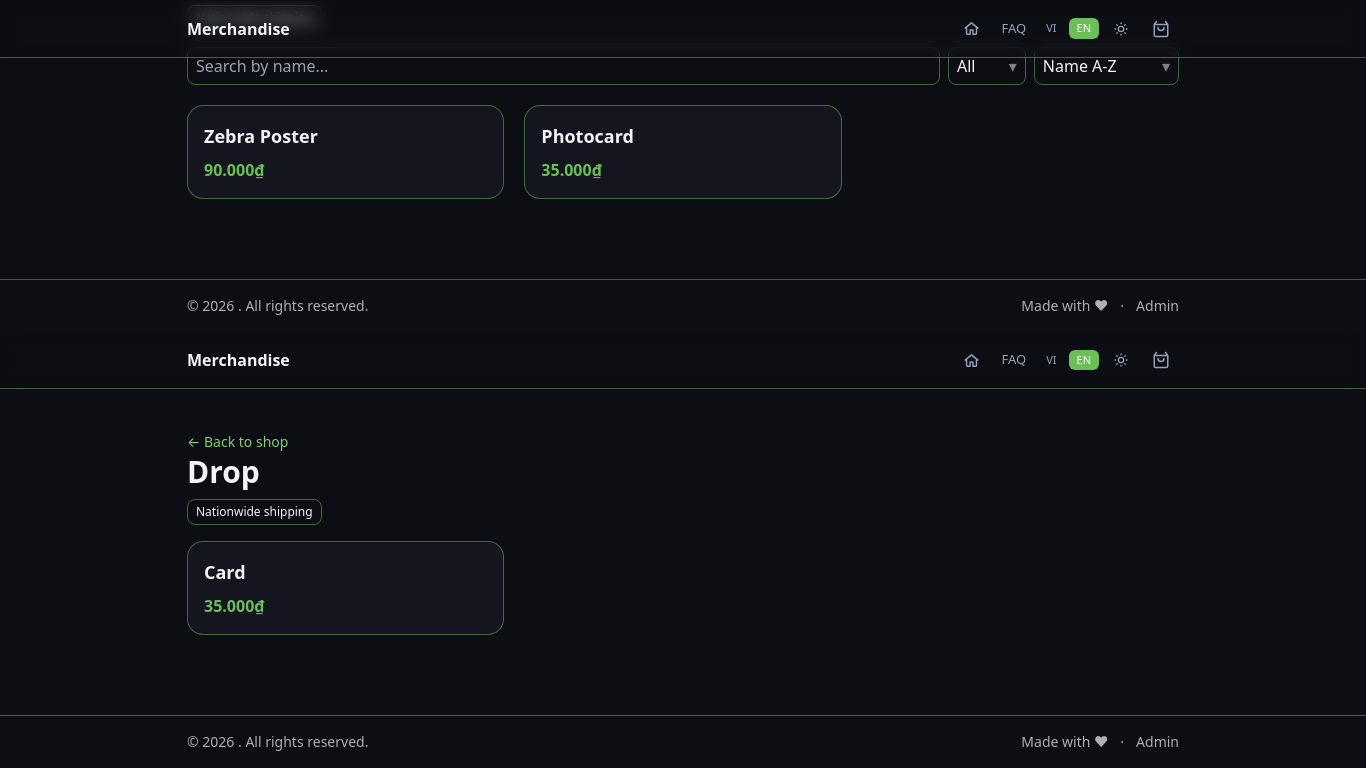
Test: Collection - add-to-cart toast › shows a toast linking to /cart after adding an item
(page scrolled)
// Single-variant product: clicking the card opens its detail directly (no pill list, no gallery).
Click the button "Card 35.000₫": (225, 572) [204,560,265,616]
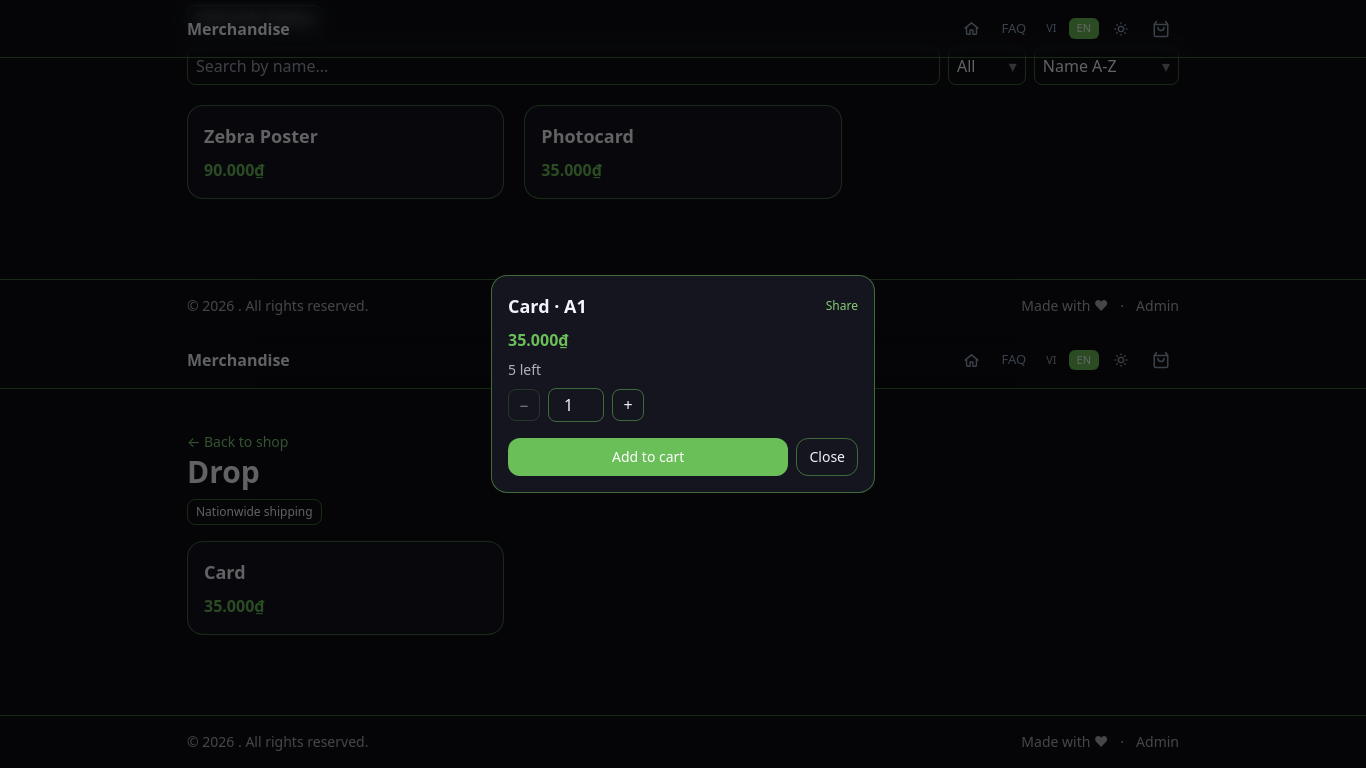
Click the button "Add to cart": (648, 457) [508,438,788,476]
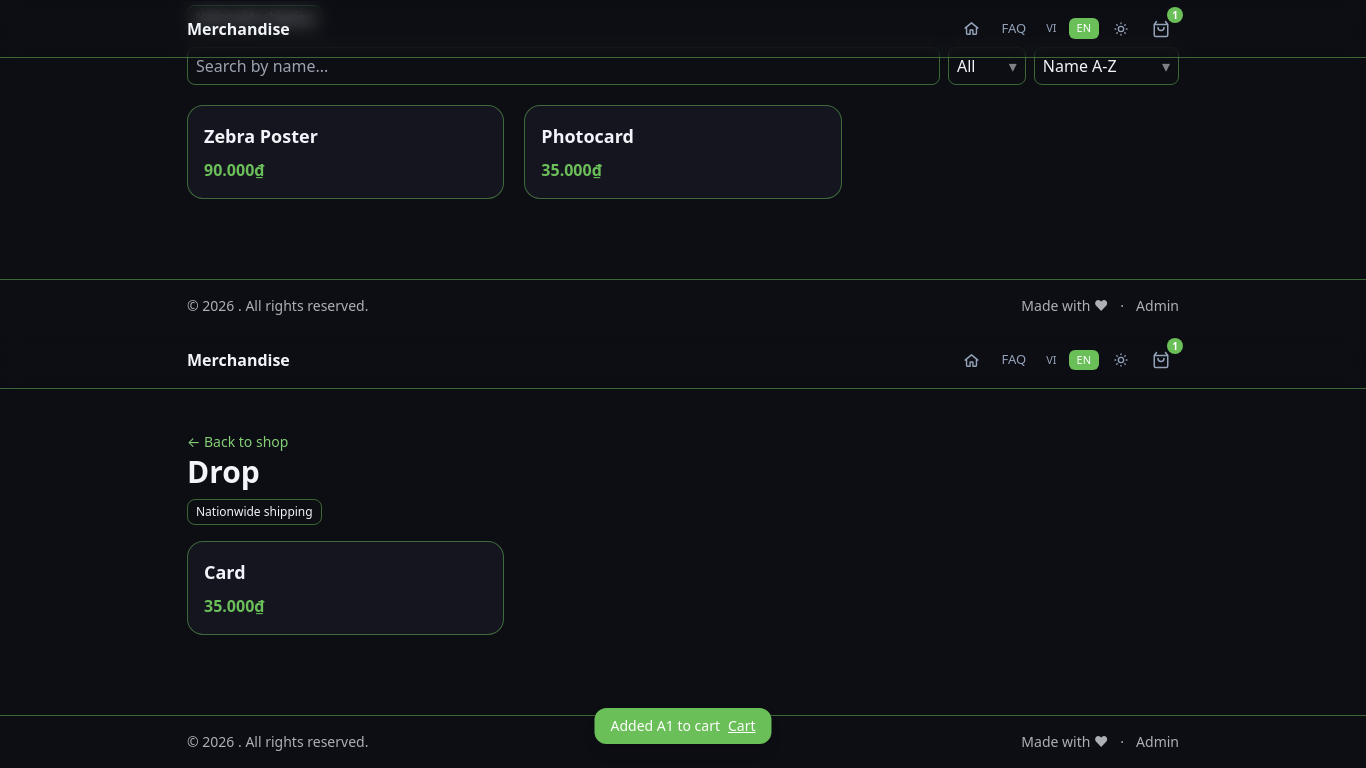
expect the message "Added A1 to cart Cart" is shown: met, box [594,708,772,744]
